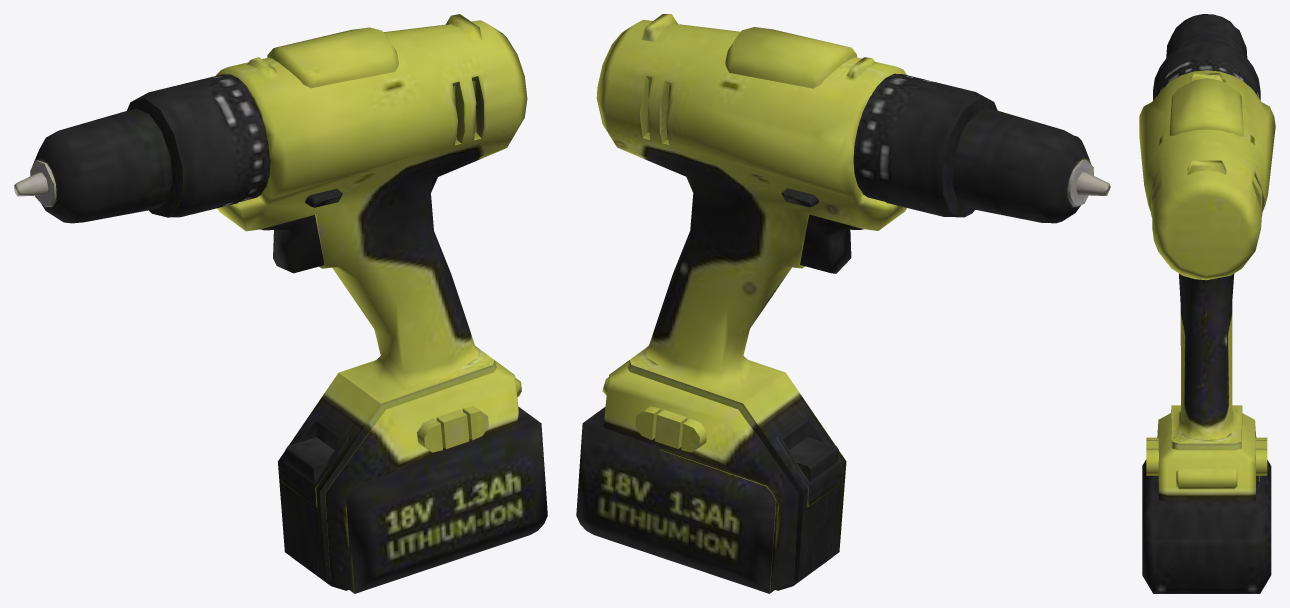
Rendered from drill_01.glb.
3 renders of one model, left to right at view 1: azimuth 30°, elevation 25°; view 2: azimuth 150°, elevation 25°; view 3: azimuth 270°, elevation 25°, orthographic. The views are drawn at different scales.
Parts seen in each view (by area): view 1: Drill_01; view 2: Drill_01; view 3: Drill_01.
Part boxes in pixels (x1,y1,x2,y2): Drill_01: (14,14,547,593); Drill_01: (576,14,1110,593); Drill_01: (1139,14,1275,593).
Size of the model in its own units: 0.1826 by 0.1851 by 0.0518.
Materials: 1 (1 with a texture image).
